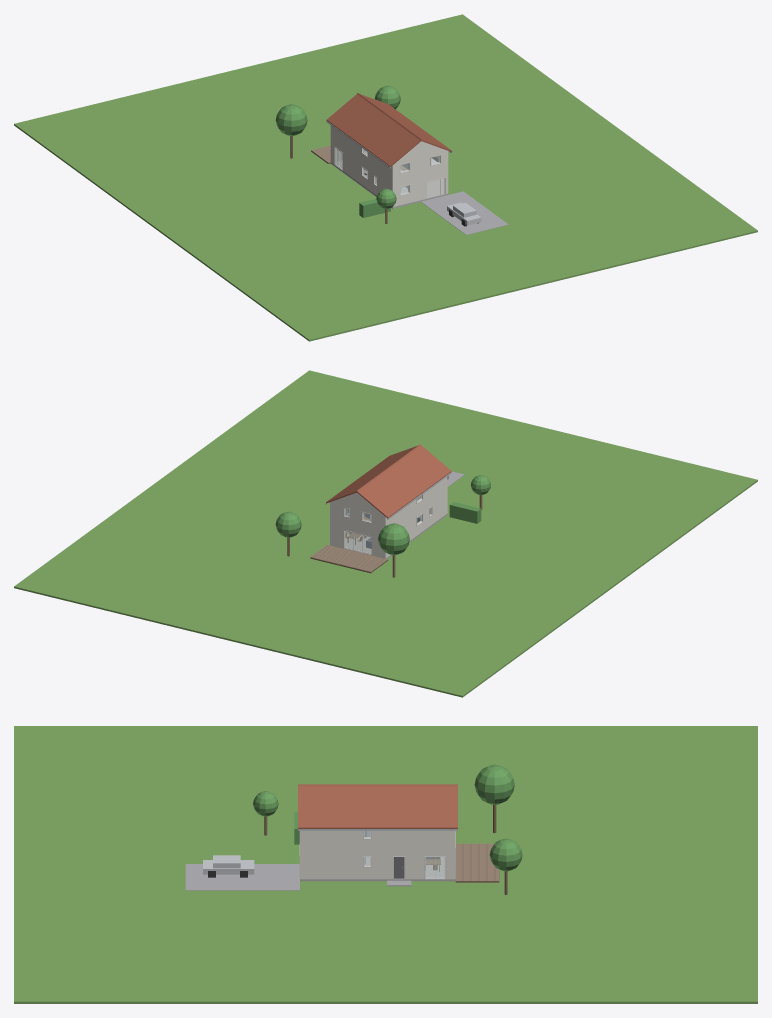
File: casarenous.glb
3 views of the same model, one above another, from view 1: azimuth 30°, elevation 25°; view 2: azimuth 150°, elevation 25°; view 3: azimuth 270°, elevation 25° (orthographic). The views are drawn at different scales.
Parts seen in each view (by area): view 1: Site - Site_herbe, Toiture - Toiture_tuile, Etage - Murs_enduit, Site - Site_feuillage, RdC - Murs_enduit, Site - Site_pave; view 2: Site - Site_herbe, Toiture - Toiture_tuile, Site - Site_feuillage, Etage - Murs_enduit, RdC - Murs_enduit, Site - Site_bois_terrasse; view 3: Site - Site_herbe, Toiture - Toiture_tuile, Etage - Murs_enduit, RdC - Murs_enduit, Site - Site_feuillage, Site - Site_pave, Site - Site_bois_terrasse, Site - Site_voiture, Site - Site_tronc, RdC - Fondations_beton.
Part boxes in pixels (bbox=[...]): Site - Site_herbe: bbox=[14, 14, 757, 341]; Toiture - Toiture_tuile: bbox=[326, 93, 452, 166]; Etage - Murs_enduit: bbox=[330, 125, 448, 186]; Site - Site_feuillage: bbox=[275, 85, 400, 217]; RdC - Murs_enduit: bbox=[330, 141, 448, 206]; Site - Site_pave: bbox=[421, 191, 508, 234]; Site - Site_herbe: bbox=[14, 370, 757, 697]; Toiture - Toiture_tuile: bbox=[326, 444, 451, 518]; Site - Site_feuillage: bbox=[275, 475, 490, 555]; Etage - Murs_enduit: bbox=[330, 476, 447, 535]; RdC - Murs_enduit: bbox=[330, 493, 447, 558]; Site - Site_bois_terrasse: bbox=[310, 544, 387, 571]; Site - Site_herbe: bbox=[14, 726, 757, 1003]; Toiture - Toiture_tuile: bbox=[298, 784, 457, 828]; Etage - Murs_enduit: bbox=[300, 830, 455, 853]; RdC - Murs_enduit: bbox=[300, 853, 455, 879]; Site - Site_feuillage: bbox=[253, 764, 522, 871]; Site - Site_pave: bbox=[185, 864, 411, 890]; Site - Site_bois_terrasse: bbox=[455, 843, 498, 881]; Site - Site_voiture: bbox=[203, 855, 254, 874]; Site - Site_tronc: bbox=[264, 804, 507, 894]; RdC - Fondations_beton: bbox=[300, 878, 455, 881].
Size of the model in its own units: 57 by 7.9 by 65.
